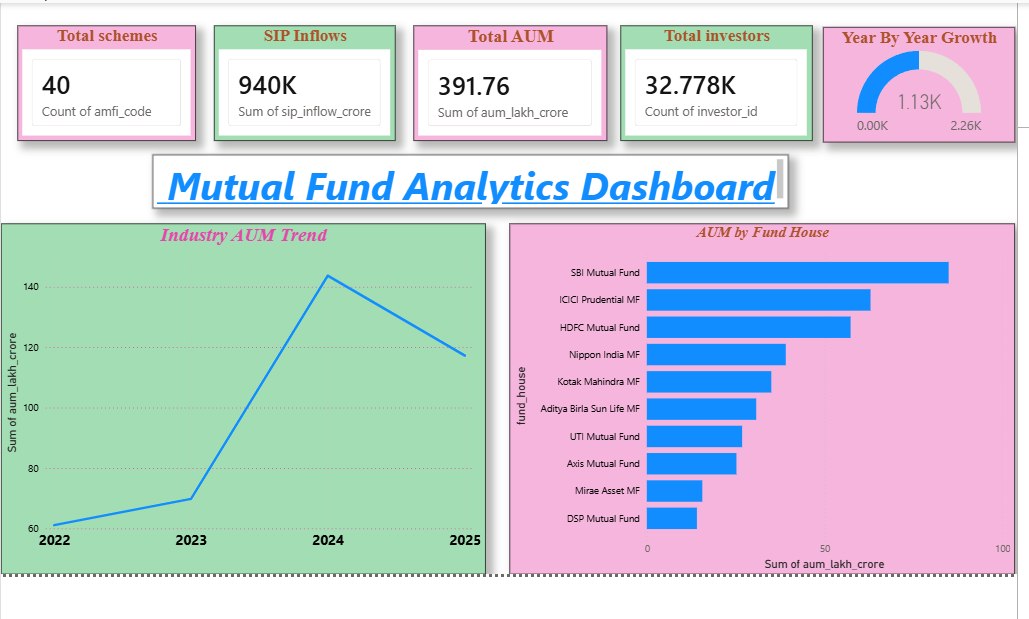

The page's visual inventory and layout, read from the dashboard file:
{"tool":"powerbi","page":{"name":"Industry Overview","canvas":[1280,720],"ordinal":0},"visuals":[{"type":"cardVisual","title":"Total AUM","fields":{"Data":["Sum(clean_aum.aum_lakh_crore)"]},"box":[519.7,28.3,243.8,145.5],"z":0},{"type":"cardVisual","title":"SIP Inflows","fields":{"Data":["Sum(clean_sip_inflows.sip_inflow_crore)"]},"box":[268.3,28.3,228.7,145.5],"z":1000},{"type":"cardVisual","title":"Total schemes","fields":{"Data":["CountNonNull(clean_fund_master.amfi_code)"]},"box":[20.8,28.3,224.9,145.5],"z":2000},{"type":"cardVisual","title":"Total investors","fields":{"Data":["CountNonNull(clean_transactions.investor_id)"]},"box":[780.5,28.3,241.9,145.5],"z":3000},{"type":"lineChart","title":"Industry AUM Trend","fields":{"Category":["clean_aum.date.Variation.Date Hierarchy.Year","clean_aum.date.Variation.Date Hierarchy.Quarter","clean_aum.date.Variation.Date Hierarchy.Month","clean_aum.date.Variation.Date Hierarchy.Day"],"Y":["Sum(clean_aum.aum_lakh_crore)"]},"box":[0,277.8,610.4,442.2],"z":4000},{"type":"clusteredBarChart","title":"AUM by Fund House","fields":{"Category":["clean_aum.fund_house"],"Y":["Sum(clean_aum.aum_lakh_crore)"]},"box":[640.6,277.8,636.9,442.2],"z":5000},{"type":"gauge","title":"Year By Year Growth","fields":{"Y":["Sum(clean_sip_inflows.yoy_growth_pct)"]},"box":[1035.6,30.2,241.9,145.5],"z":6000},{"type":"textbox","box":[190.9,190.9,801.3,68],"z":7000}]}

Visuals, with their boxes in screenshot pixels (x1, y1, x2, y2):
"Total AUM" cardVisual: x1=412 y1=22 x2=605 y2=138
"SIP Inflows" cardVisual: x1=213 y1=22 x2=394 y2=138
"Total schemes" cardVisual: x1=16 y1=22 x2=195 y2=138
"Total investors" cardVisual: x1=619 y1=22 x2=811 y2=138
"Industry AUM Trend" lineChart: x1=0 y1=220 x2=484 y2=571
"AUM by Fund House" clusteredBarChart: x1=508 y1=220 x2=1013 y2=571
"Year By Year Growth" gauge: x1=821 y1=24 x2=1013 y2=139
textbox: x1=151 y1=151 x2=787 y2=205
